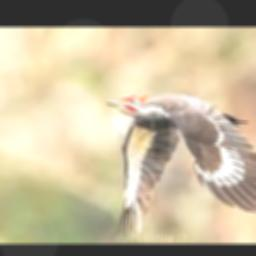Woodpecker: (106, 93, 256, 234)
